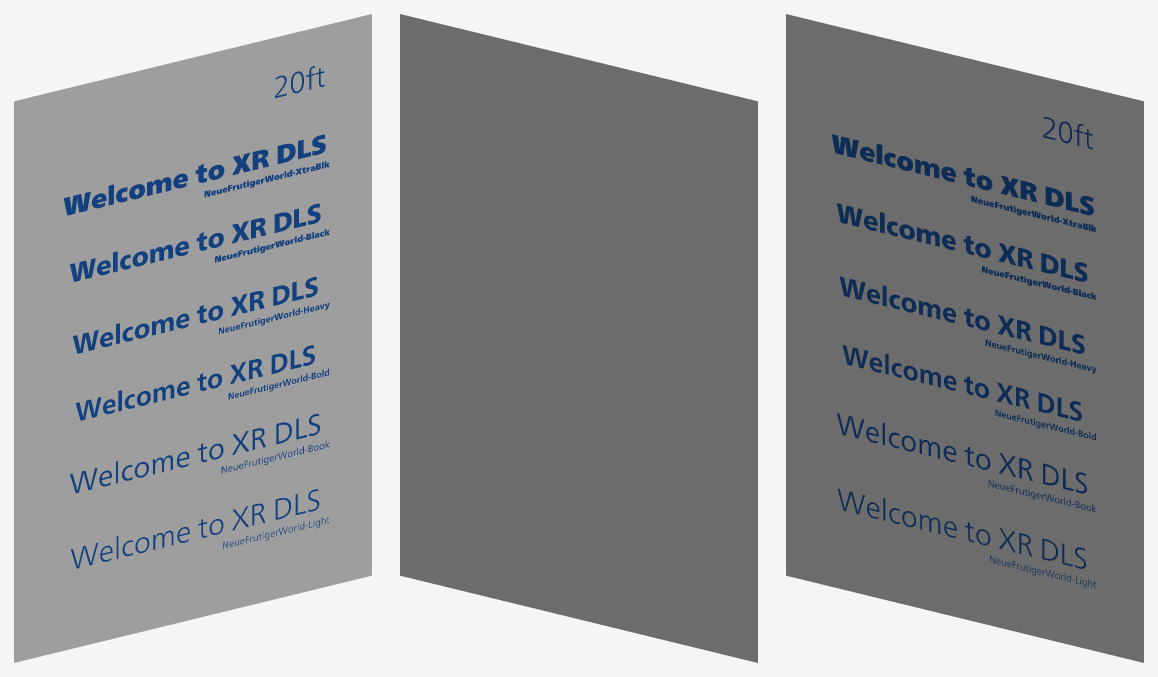
3 views of the same model, side by side, from view 1: azimuth 30°, elevation 25°; view 2: azimuth 150°, elevation 25°; view 3: azimuth 330°, elevation 25° (orthographic).
Parts seen in each view (by area): view 1: Text.091; view 2: Text.091; view 3: Text.091.
Boxes of the visible parts, left/top/right/bottom form: Text.091: left=14, top=14, right=371, bottom=662; Text.091: left=400, top=14, right=757, bottom=662; Text.091: left=786, top=14, right=1143, bottom=662.
Size of the model in its own units: 8 by 12 by 0.1.
